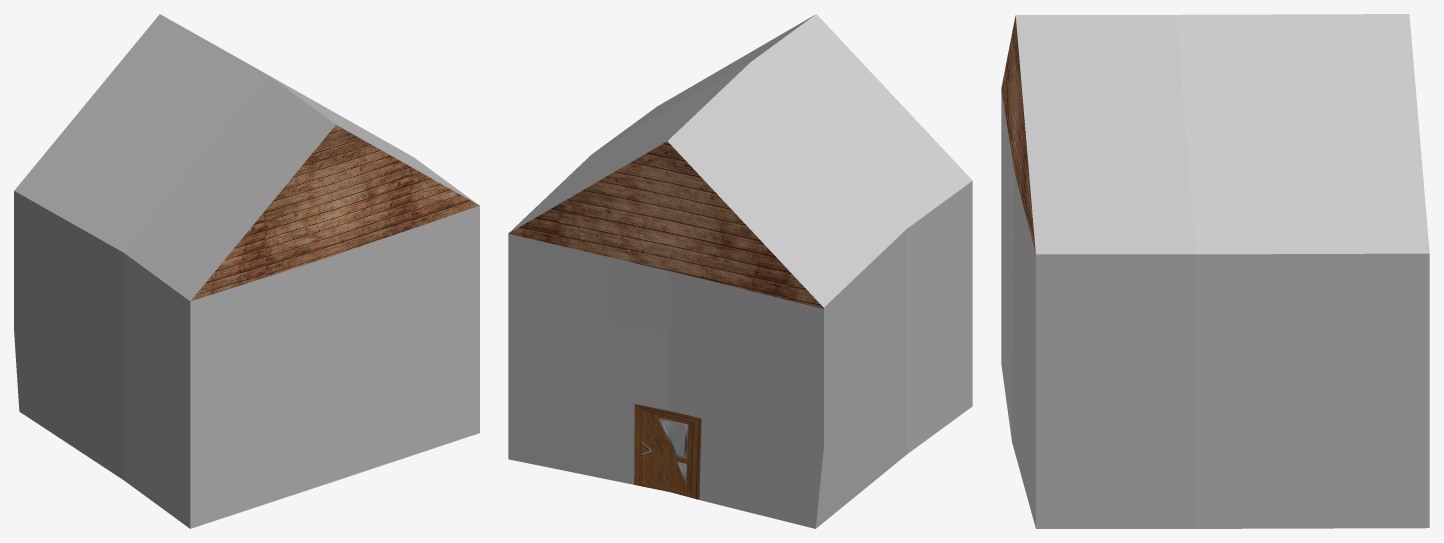
Rendered from RialCasa.obj.
3 renders of one model, left to right at view 1: azimuth 30°, elevation 25°; view 2: azimuth 150°, elevation 25°; view 3: azimuth 270°, elevation 25°, orthographic. The views are drawn at different scales.
Parts seen in each view (by area): view 1: Cube; view 2: Cube; view 3: Cube.
Part boxes in pixels (box(x1,y1,x2,y2)): Cube: box(14, 14, 479, 528); Cube: box(508, 14, 972, 528); Cube: box(1001, 14, 1429, 528).
Size of the model in its own units: 10.87 by 11.95 by 10.55.
